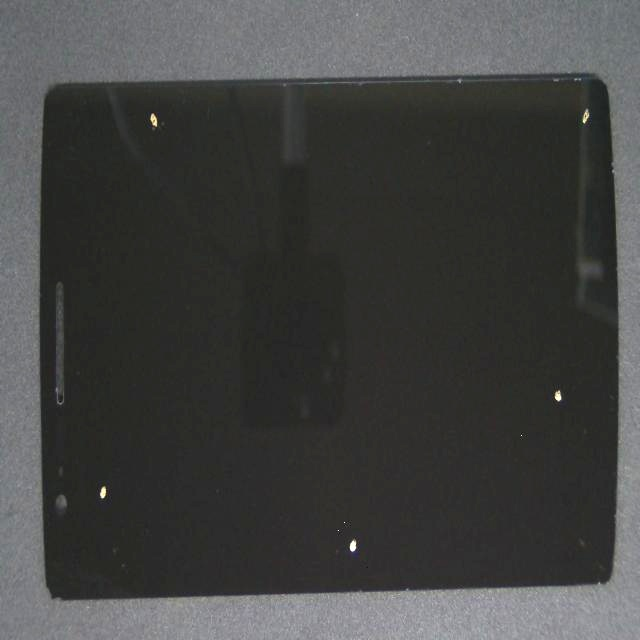stain: (289, 220, 640, 640), (170, 216, 503, 640), (280, 73, 640, 219), (40, 261, 146, 640), (74, 16, 219, 169)
